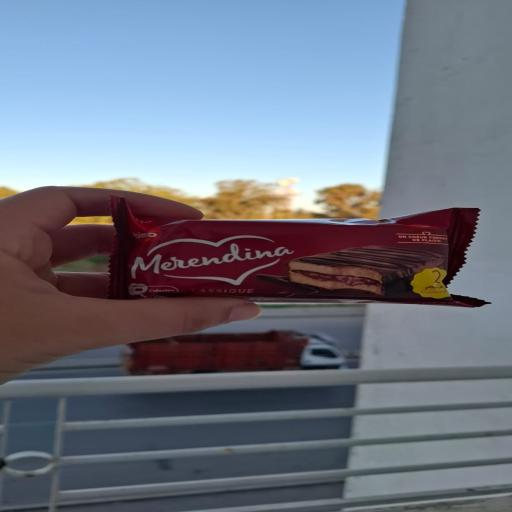merendina: (104, 196, 502, 346)
